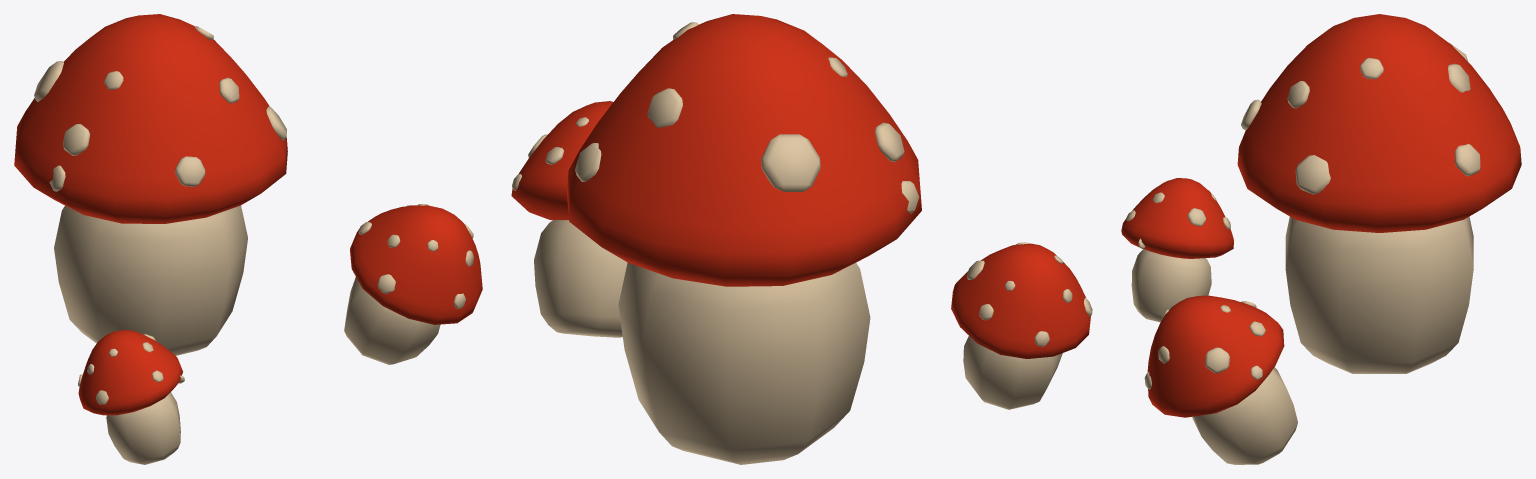
File: Mushroom.fbx
3 views of the same model, side by side, from view 1: azimuth 30°, elevation 25°; view 2: azimuth 150°, elevation 25°; view 3: azimuth 270°, elevation 25° (orthographic). The views are drawn at different scales.
Parts seen in each view (by area): view 1: Mushroom; view 2: Mushroom; view 3: Mushroom.
Part boxes in pixels (bbox=[...]): Mushroom: bbox=[14, 14, 482, 464]; Mushroom: bbox=[511, 14, 1092, 464]; Mushroom: bbox=[1121, 14, 1521, 464].
Size of the model in its own units: 0.2869 by 0.2267 by 0.2321.
